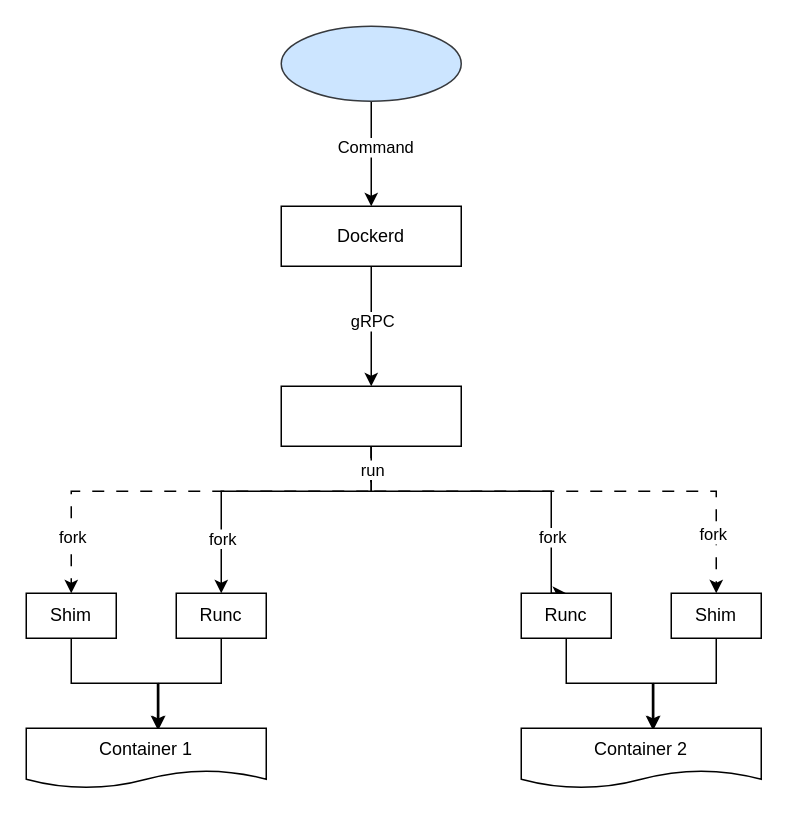
The diagram is 788 pixels wide and 815 high, and some of its shapes have lost their labels. Each missing label, with the box of its shape:
Containerd: (280, 385, 461, 446)
Docker Client: (280, 25, 461, 101)
